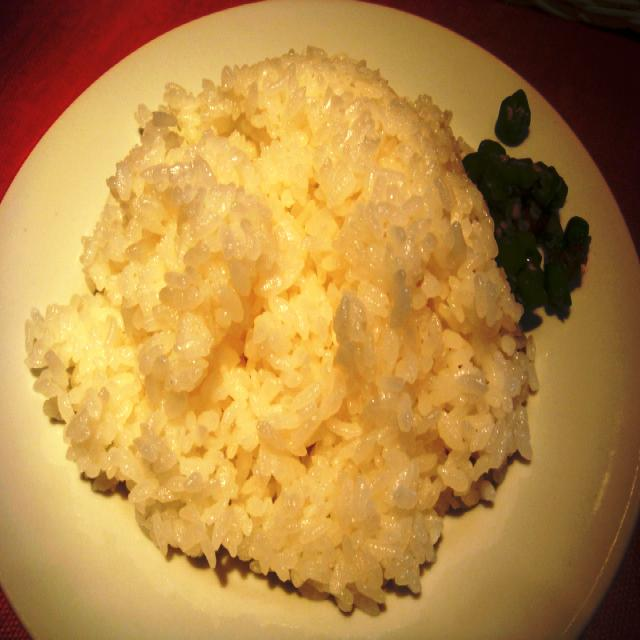rice: (26, 45, 536, 616)
